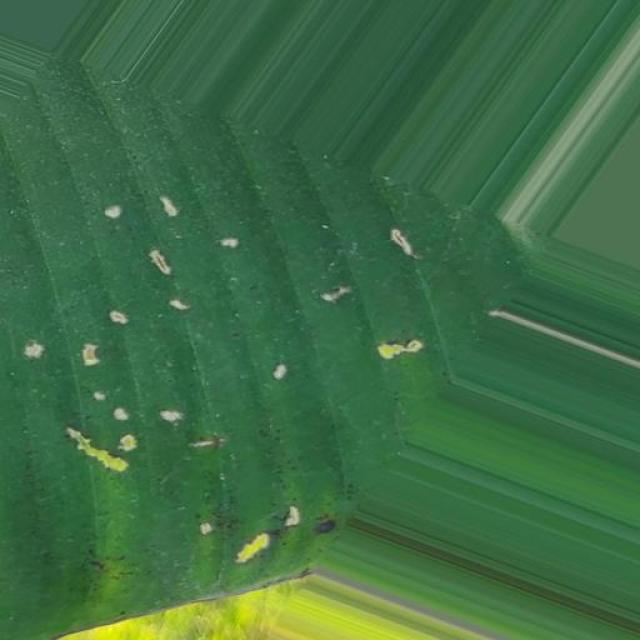Black_rot: (22, 169, 553, 603)
